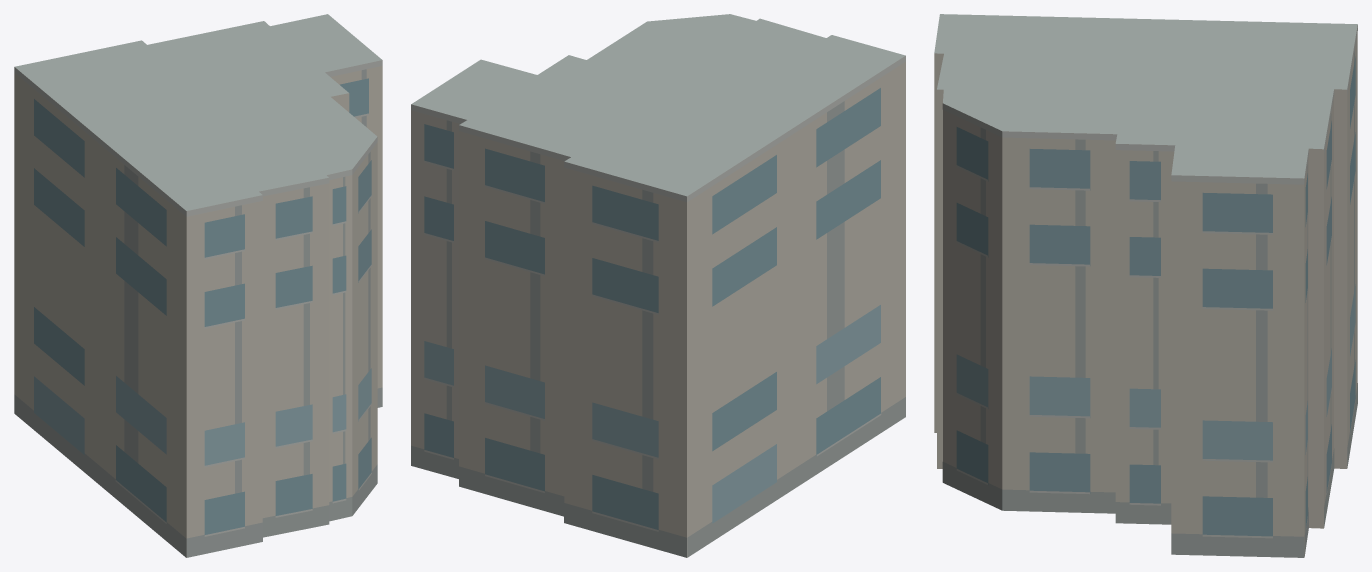
Rendered from survey-upis-32499343.glb.
The picture shows the model from 3 angles, left to right: view 1: azimuth 30°, elevation 25°; view 2: azimuth 150°, elevation 25°; view 3: azimuth 270°, elevation 25°; orthographic projection. The views are drawn at different scales.
Visible parts, largest first — view 1: survey-upis-32499343.tmp; view 2: survey-upis-32499343.tmp; view 3: survey-upis-32499343.tmp.
Boxes of the visible parts, <box> form: survey-upis-32499343.tmp: <box>14,14,382,557</box>; survey-upis-32499343.tmp: <box>411,14,905,557</box>; survey-upis-32499343.tmp: <box>934,14,1357,557</box>.
Bounding box in the file's own units: 13.77 × 14.8 × 14.99.
